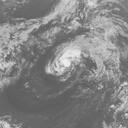cyclone: (46, 44, 85, 76)
